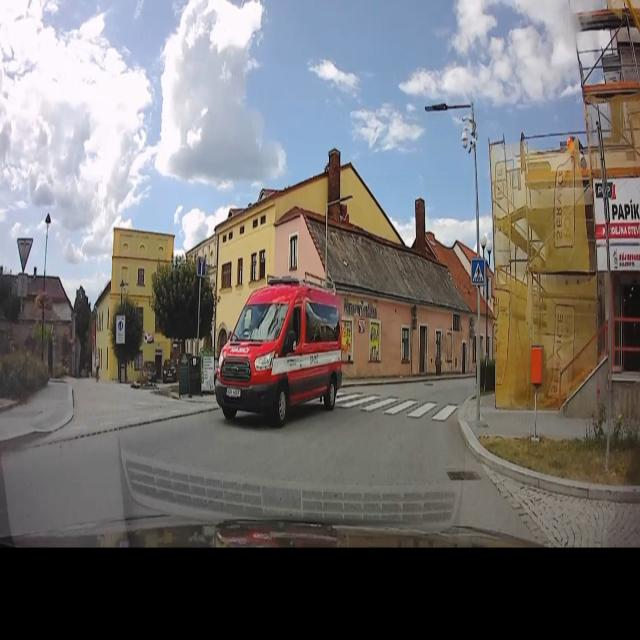Pedestrian crosswalk: (310, 390, 459, 423), (469, 257, 486, 286)
